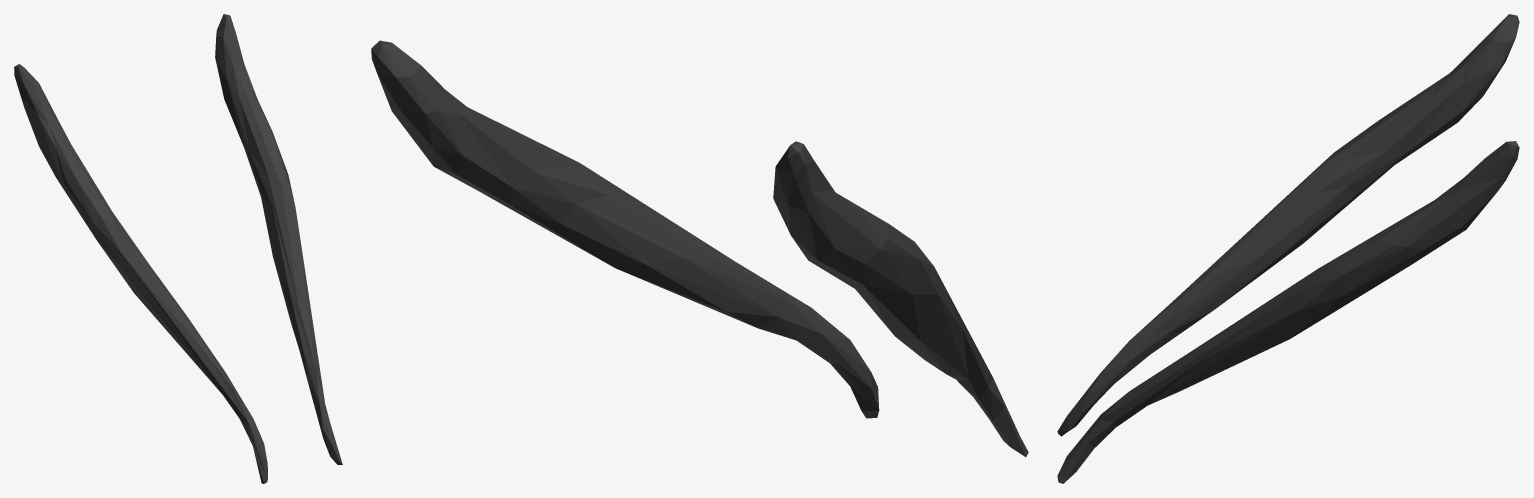
Rendered from m_depressor_labii_mandibularis.glb.
3 views of the same model, side by side, from view 1: azimuth 30°, elevation 25°; view 2: azimuth 150°, elevation 25°; view 3: azimuth 270°, elevation 25° (orthographic). The views are drawn at different scales.
Visible parts, largest first — view 1: m_depressor_labii_mandibularis; view 2: m_depressor_labii_mandibularis; view 3: m_depressor_labii_mandibularis.
Part boxes in pixels (box(x1,y1,x2,y2)): m_depressor_labii_mandibularis: box(14, 14, 342, 483); m_depressor_labii_mandibularis: box(371, 40, 1028, 456); m_depressor_labii_mandibularis: box(1057, 14, 1519, 483).
Bounding box in the file's own units: 0.00211 × 0.00282 × 0.0031.
1 material, 1 textured.
